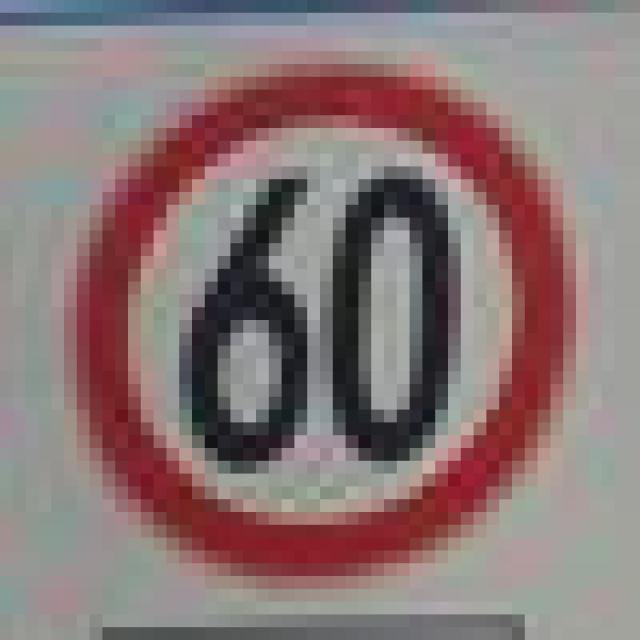SPEED_LIMIT_60: (64, 51, 563, 563)
